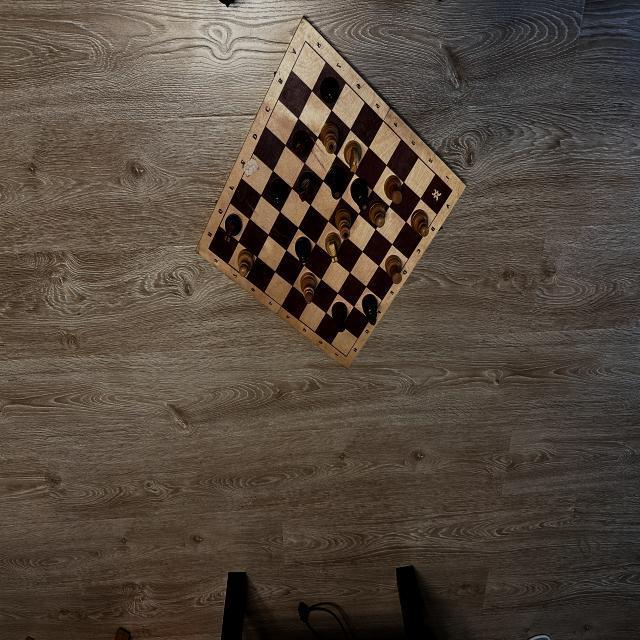chess-table-corners: (303, 38, 308, 45), (207, 246, 211, 251), (450, 188, 454, 192), (345, 354, 348, 358)
